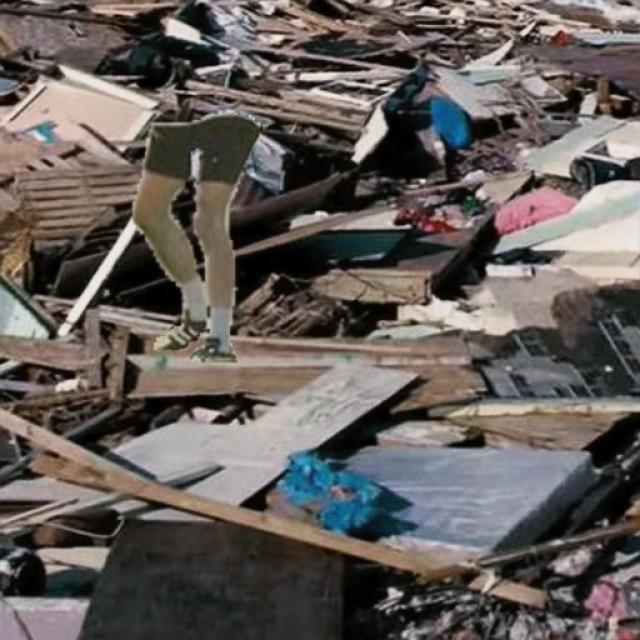Person in Rubble: (132, 112, 262, 362)
